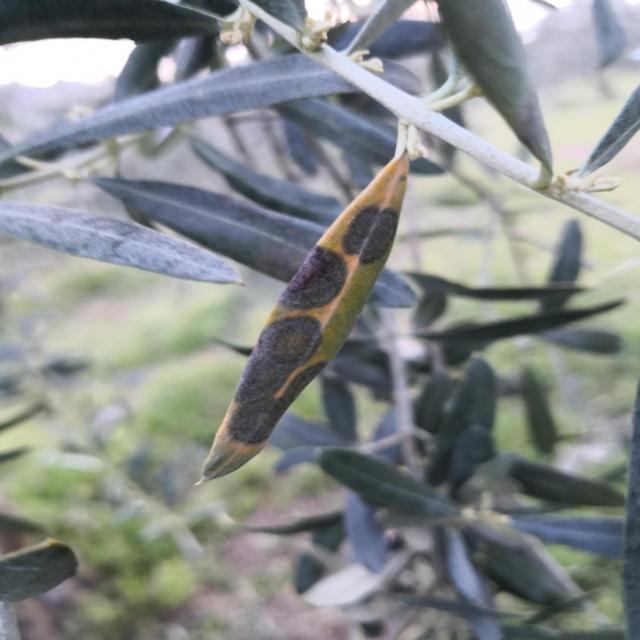OlivePeacockSpot: (202, 150, 410, 480)
